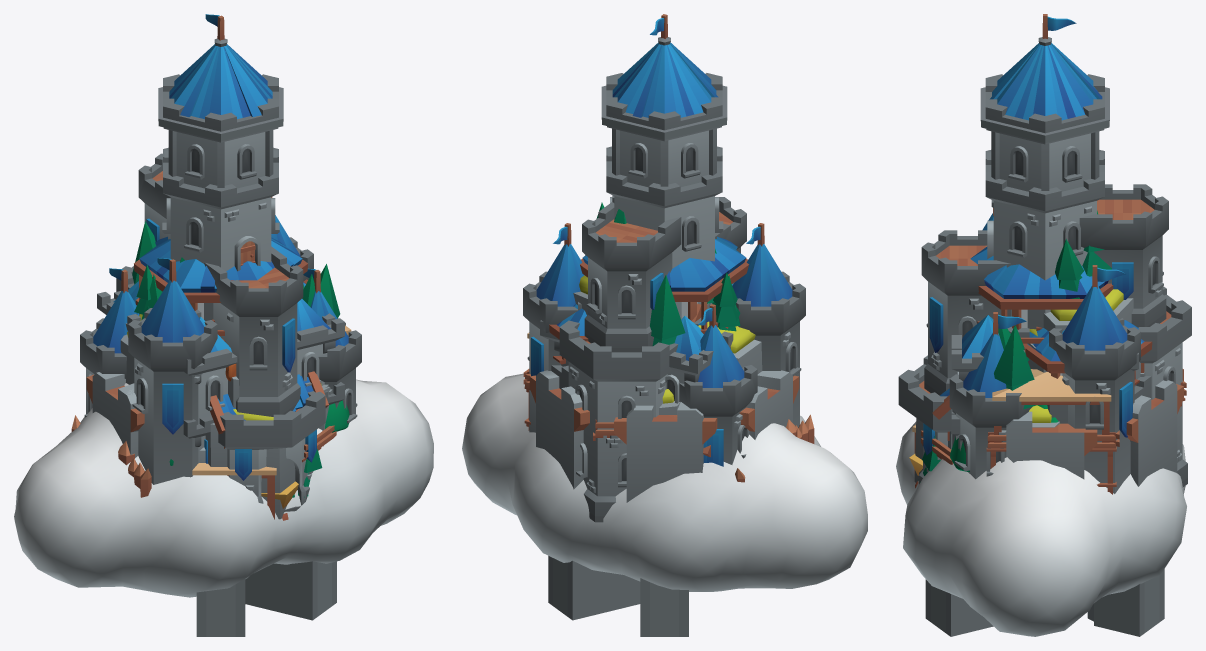
File: medieval.glb
The picture shows the model from 3 angles, left to right: view 1: azimuth 30°, elevation 25°; view 2: azimuth 150°, elevation 25°; view 3: azimuth 270°, elevation 25°; orthographic projection. The views are drawn at different scales.
Parts seen in each view (by area): view 1: building_castle_blue, cloud_big, building_barracks_blue, building_bridge_A, building_tower_B_top_blue, mountain_C, building_bridge_B, wall_corner_A_inside, building_scaffolding, mountain_A_grass_trees, building_watermill_blue, fence_wood_straight; view 2: building_castle_blue, cloud_big, wall_corner_B_inside, building_bridge_B, building_tower_B_top_blue, wall_corner_A_inside, building_bridge_A, building_barracks_blue, wall_corner_A_outside, wall_corner_B_outside, mountain_A_grass_trees, wall_corner_A_gate (+5 smaller); view 3: building_castle_blue, cloud_big, building_tower_B_top_blue, building_scaffolding, wall_straight, building_bridge_B, wall_corner_A_inside, building_bridge_A, building_archeryrange_blue, building_barracks_blue, mountain_B_grass_trees, mountain_A_grass_trees (+3 smaller).
Boxes of the visible parts, x1=… form: building_castle_blue: x1=80, y1=14, x2=361, y2=511; cloud_big: x1=14, y1=379, x2=433, y2=597; building_barracks_blue: x1=97, y1=281, x2=344, y2=463; building_bridge_A: x1=245, y1=561, x2=336, y2=620; building_tower_B_top_blue: x1=134, y1=236, x2=307, y2=341; mountain_C: x1=120, y1=334, x2=327, y2=519; building_bridge_B: x1=196, y1=579, x2=245, y2=636; wall_corner_A_inside: x1=97, y1=372, x2=144, y2=457; building_scaffolding: x1=192, y1=325, x2=351, y2=519; mountain_A_grass_trees: x1=132, y1=221, x2=340, y2=319; building_watermill_blue: x1=210, y1=371, x2=328, y2=448; fence_wood_straight: x1=71, y1=415, x2=151, y2=497; building_castle_blue: x1=523, y1=14, x2=805, y2=522; cloud_big: x1=462, y1=373, x2=867, y2=591; wall_corner_B_inside: x1=614, y1=377, x2=799, y2=502; building_bridge_B: x1=548, y1=556, x2=640, y2=620; building_tower_B_top_blue: x1=580, y1=236, x2=749, y2=333; wall_corner_A_inside: x1=529, y1=375, x2=798, y2=489; building_bridge_A: x1=640, y1=578, x2=688, y2=636; building_barracks_blue: x1=540, y1=283, x2=733, y2=403; wall_corner_A_outside: x1=544, y1=372, x2=792, y2=477; wall_corner_B_outside: x1=626, y1=374, x2=780, y2=473; mountain_A_grass_trees: x1=585, y1=255, x2=740, y2=345; wall_corner_A_gate: x1=536, y1=370, x2=776, y2=439; building_castle_blue: x1=898, y1=14, x2=1191, y2=493; cloud_big: x1=896, y1=421, x2=1186, y2=636; building_tower_B_top_blue: x1=970, y1=246, x2=1113, y2=353; building_scaffolding: x1=912, y1=369, x2=1186, y2=494; wall_straight: x1=1006, y1=411, x2=1097, y2=479; building_bridge_B: x1=1087, y1=569, x2=1164, y2=636; wall_corner_A_inside: x1=1126, y1=380, x2=1177, y2=486; building_bridge_A: x1=925, y1=579, x2=993, y2=636; building_archeryrange_blue: x1=1026, y1=320, x2=1152, y2=423; building_barracks_blue: x1=951, y1=315, x2=1138, y2=435; mountain_B_grass_trees: x1=998, y1=210, x2=1111, y2=349; mountain_A_grass_trees: x1=994, y1=326, x2=1036, y2=409.
Size of the model in its own units: 3.61 by 4.98 by 2.28.
Materials: 1 (1 with a texture image).
